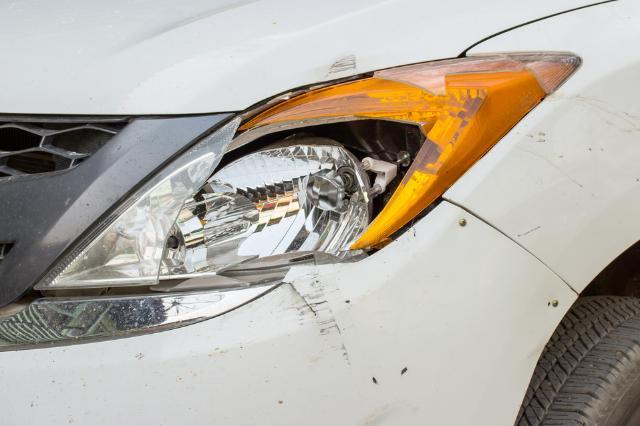Bumper: (262, 268, 477, 401)
Light: (159, 80, 407, 266)
